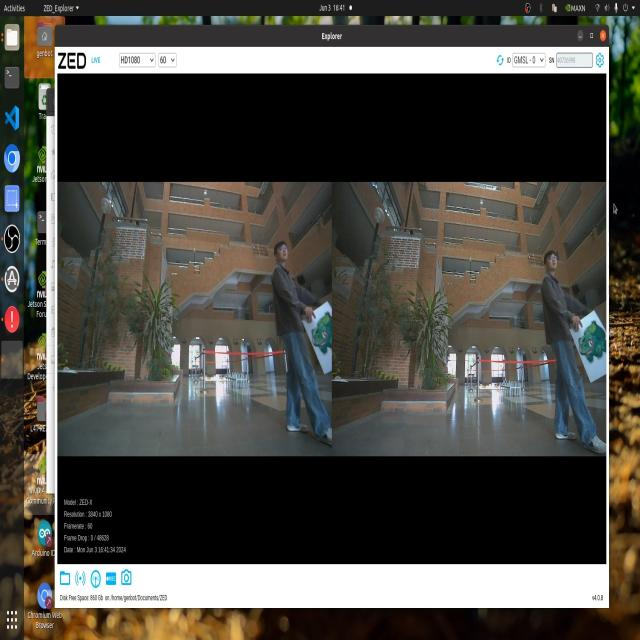green: (304, 297, 342, 368), (557, 320, 607, 373)
